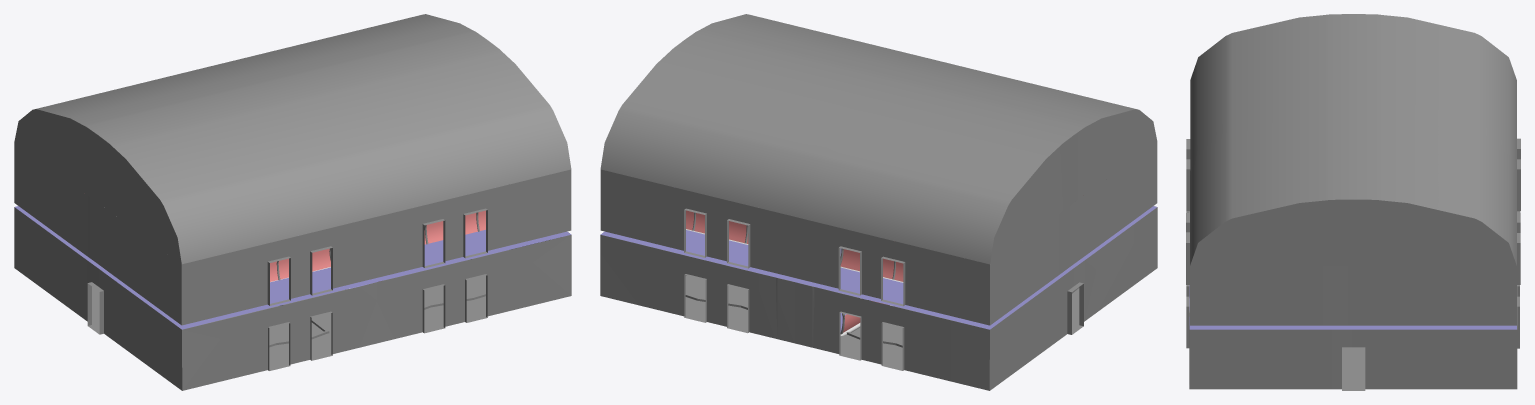
The model's file is Biotope Hole.FBX.
3 renders of one model, left to right at view 1: azimuth 30°, elevation 25°; view 2: azimuth 150°, elevation 25°; view 3: azimuth 270°, elevation 25°, orthographic. The views are drawn at different scales.
Visible parts, largest first — view 1: Object001, Plane001, Object003, Object012; view 2: Object001, Plane001, Object003, Object012; view 3: Object001, Plane001, Object003.
Part boxes in pixels (<box>): Object001: <box>14,14,571,264</box>; Plane001: <box>14,142,571,329</box>; Object003: <box>14,207,571,390</box>; Object012: <box>270,210,485,281</box>; Object001: <box>600,14,1157,264</box>; Plane001: <box>600,142,1157,331</box>; Object003: <box>600,207,1157,390</box>; Object012: <box>686,210,903,334</box>; Object001: <box>1190,14,1516,265</box>; Plane001: <box>1186,138,1520,329</box>; Object003: <box>1186,211,1519,390</box>.
Size of the model in its own units: 2041 by 972 by 1526.
